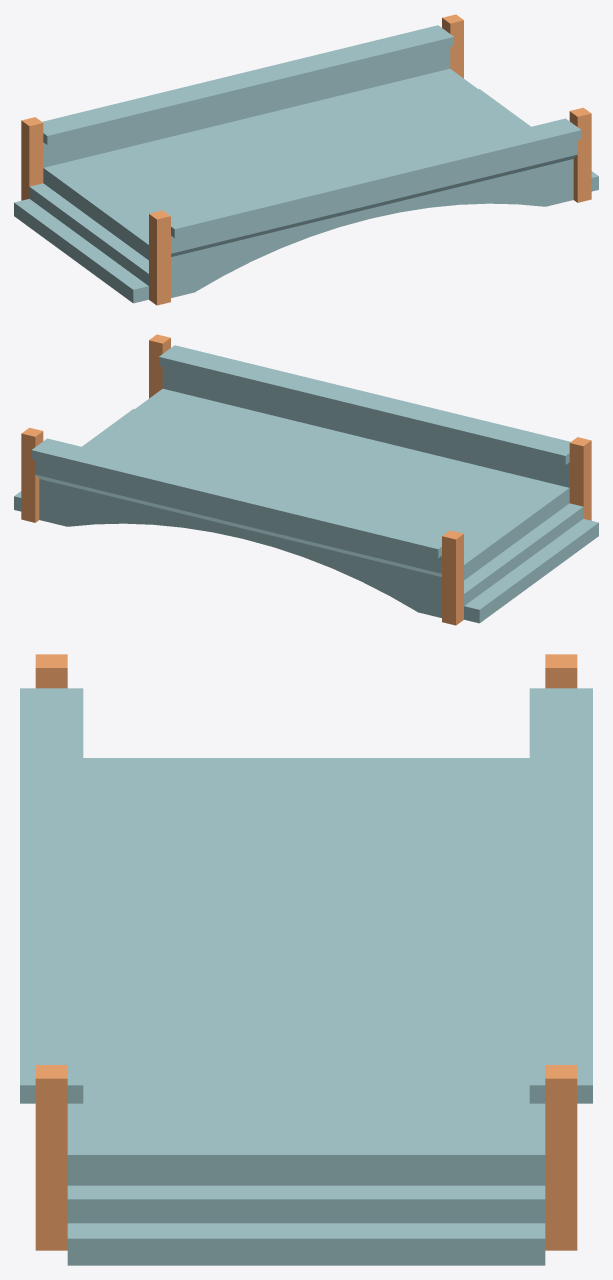
File: bridge_straight.fbx
The picture shows the model from 3 angles, top to bottom: view 1: azimuth 30°, elevation 25°; view 2: azimuth 150°, elevation 25°; view 3: azimuth 270°, elevation 25°; orthographic projection. The views are drawn at different scales.
Parts seen in each view (by area): view 1: bridge_straight; view 2: bridge_straight; view 3: bridge_straight.
Part boxes in pixels (x1,y1,x2,y2): bridge_straight: (14, 14, 598, 305); bridge_straight: (14, 334, 598, 625); bridge_straight: (20, 654, 592, 1265).
Bounding box in the file's own units: 9.5 × 1.68 × 5.06.
